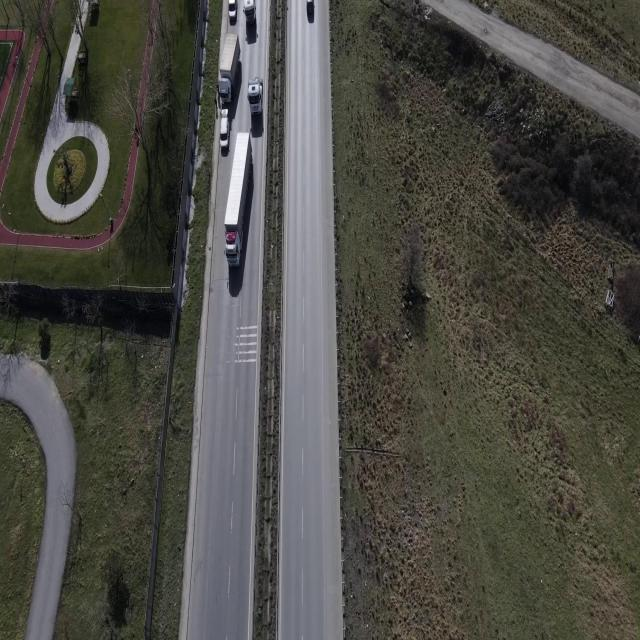p3rson: (216, 82, 220, 97), (214, 97, 218, 109)
